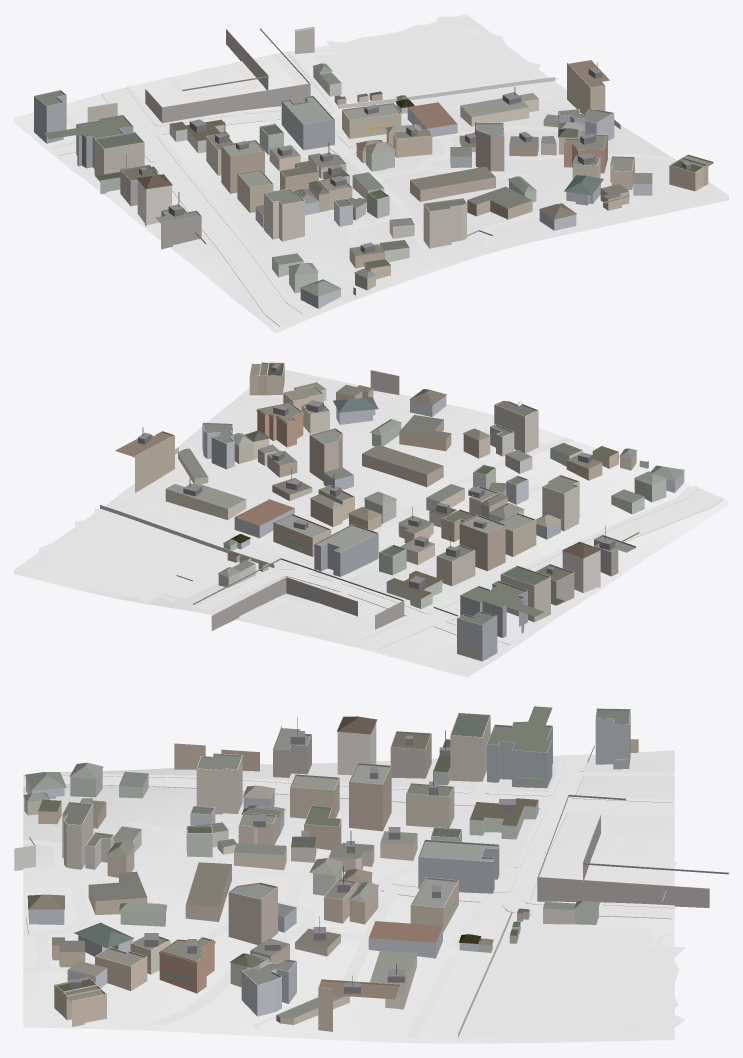
3 renders of one model, top to bottom at view 1: azimuth 30°, elevation 25°; view 2: azimuth 150°, elevation 25°; view 3: azimuth 270°, elevation 25°, orthographic. The views are drawn at different scales.
Visible parts, largest first — view 1: t0_-3_-6; view 2: t0_-3_-6; view 3: t0_-3_-6.
Boxes of the visible parts, <box> form: t0_-3_-6: <box>14,14,728,333</box>; t0_-3_-6: <box>14,362,728,677</box>; t0_-3_-6: <box>14,706,728,1043</box>.
Bounding box in the file's own units: 274 × 36.15 × 281.
